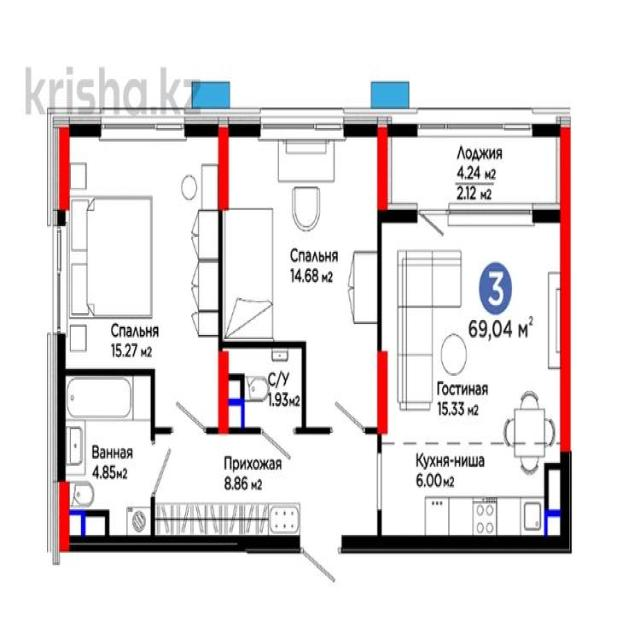balcony: (384, 116, 566, 215)
bathroom: (61, 370, 153, 538), (224, 348, 304, 427)
hallway: (153, 429, 377, 544)
living_room: (57, 117, 223, 374), (224, 120, 382, 345)
studio: (380, 218, 568, 542)
